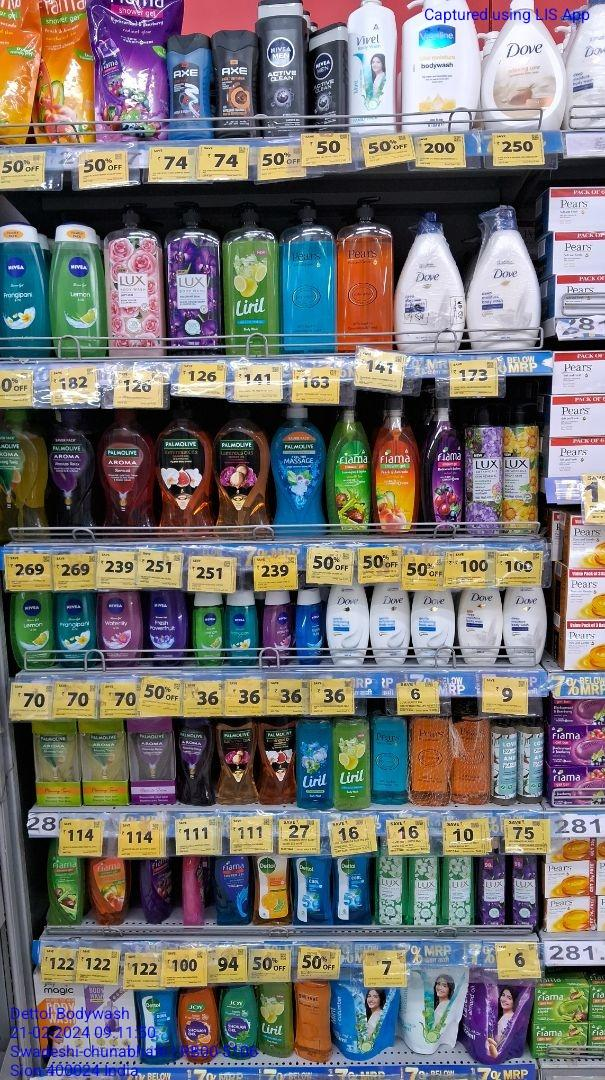Dettol_Bodywash_Cool: (139, 988, 180, 1065), (294, 856, 332, 925), (334, 857, 372, 923)
Dettol_Bodywash_Refresh: (255, 855, 289, 930)
Dove_Deep_Moisture_Body_Wash_250ML: (457, 589, 501, 664), (504, 587, 546, 663)
Dove_Gentle_Exfoliating_Body_Wash_250ML: (326, 582, 370, 665), (412, 587, 455, 661), (373, 584, 409, 664)
Fiama_Shower_Gel_Lemongrass_and_Jojoba_250ML: (48, 855, 85, 927)
Fiama_Shower_Gel_Peach_and_Avocado_250ML: (89, 858, 128, 926)
Get_Real_Shower_Gel_Moisturising_Glycerin_300ML: (295, 980, 332, 1062)
Joy_Shower_Gel_Mandarin_and_Lemongrass_250ML: (182, 987, 218, 1064)
Joy_Shower_Gel_Mint_and_Eucalyptus_250ML: (220, 986, 257, 1059)
Liril_Cooling_Mint_Body_Wash_250ML: (301, 717, 332, 810)
Liril_Lime_and_Tea_Tree_Oil_Body_Wash_250ML: (334, 716, 370, 809), (261, 984, 292, 1056)
Lux_Black_Orchid_Scent_and_Juniper_Oil_Body_Wash_245ML: (477, 856, 508, 929), (510, 852, 538, 925)
Lux_Body_Wash_Skin_Detox_Freesia_Scent_and_Alove_Vera_245ML: (410, 855, 440, 930), (376, 855, 407, 927), (443, 859, 475, 928)
Nivea_Shower_Gel_Frangipani_and_Oil_250ML: (0, 225, 51, 361), (58, 591, 96, 668)
Nivea_Shower_Gel_Fresh_Powerfruit_250ML: (147, 590, 185, 665)
Nivea_Shower_Gel_Lemon_and_Oil_250ML: (55, 222, 107, 355), (12, 589, 56, 668)
Nivea_Shower_Gel_Waterlily_and_Oil_250ML: (98, 594, 142, 664)
Palmolive_Aroma_Relax_250ML: (177, 717, 213, 805)
Palmolive_Luminous_Oils_Invigorating_Macadamia_Oil_With_Peony_250ML: (216, 717, 260, 804)
Palmolive_Luminous_Oils_With_White_Orchid_Shower_Gel_250ML: (262, 717, 298, 804)
Pears_Pure_Glycerin_and_Mint_Extracts_Body_Wash_250ML: (373, 714, 408, 804)
